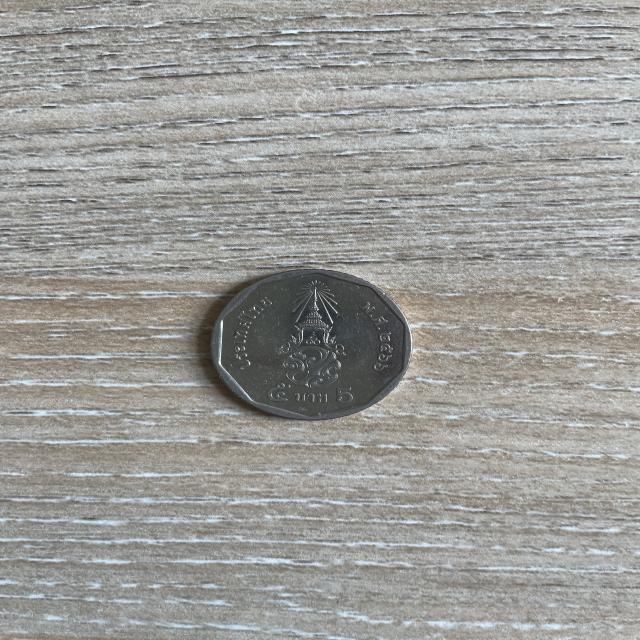5 Bath: (200, 263, 422, 427)
